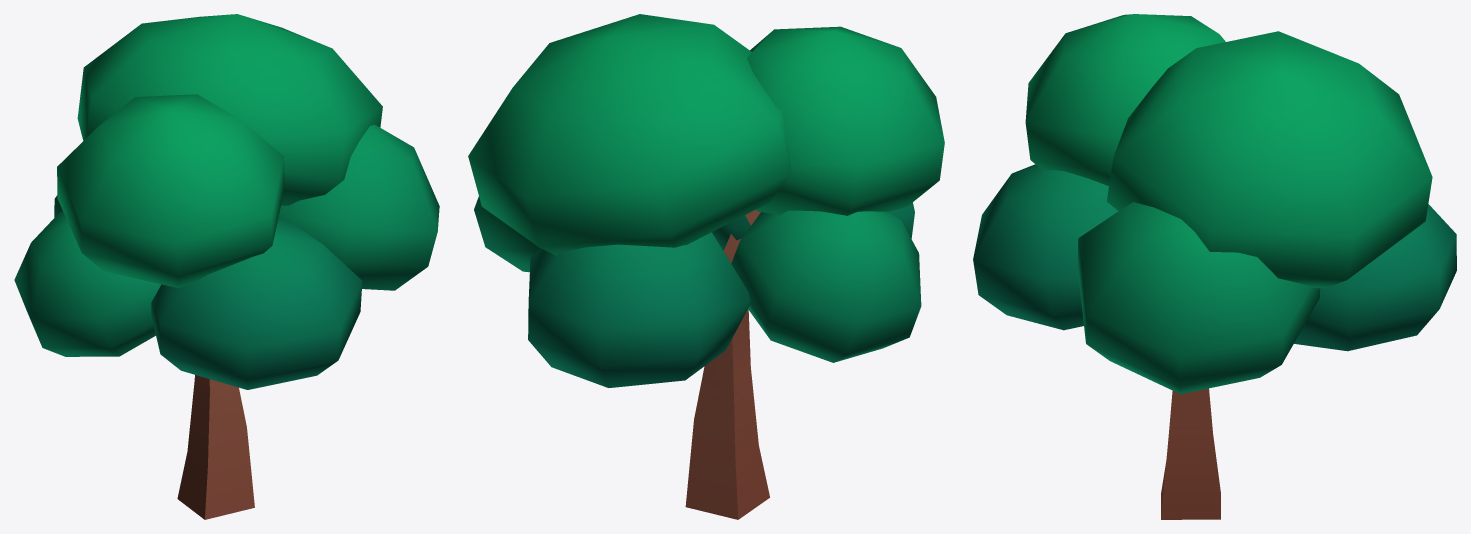
The model's file is tree_D.glb.
3 views of the same model, side by side, from view 1: azimuth 30°, elevation 25°; view 2: azimuth 150°, elevation 25°; view 3: azimuth 270°, elevation 25° (orthographic). The views are drawn at different scales.
Visible parts, largest first — view 1: tree_D; view 2: tree_D; view 3: tree_D.
Boxes of the visible parts, <box> form: tree_D: <box>14,14,439,519</box>; tree_D: <box>468,14,944,519</box>; tree_D: <box>973,14,1456,519</box>.
Bounding box in the file's own units: 1.02 × 1.07 × 1.
1 material, 1 textured.
